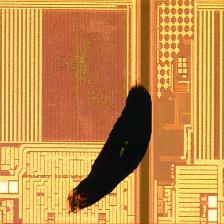PARTICLE: (68, 84, 157, 215)
